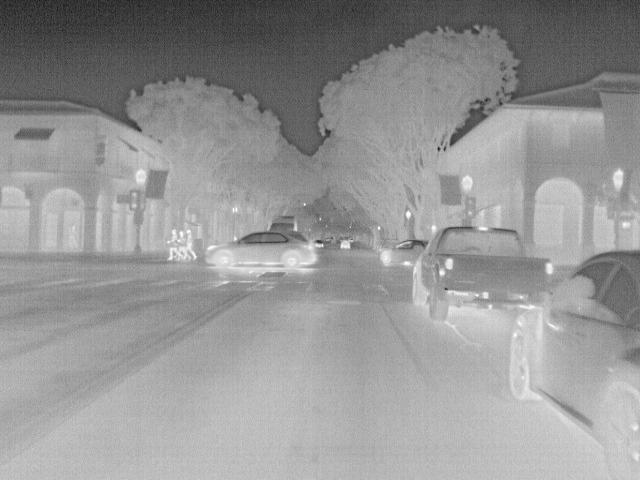car: (504, 250, 639, 478), (410, 226, 552, 322), (204, 230, 317, 272), (380, 239, 432, 268), (268, 214, 298, 232), (313, 238, 326, 250), (338, 239, 352, 250)
person: (182, 226, 199, 261), (165, 227, 180, 261)
